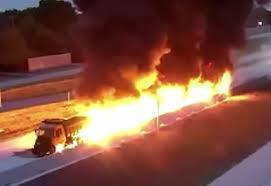fire: (34, 66, 242, 150)
